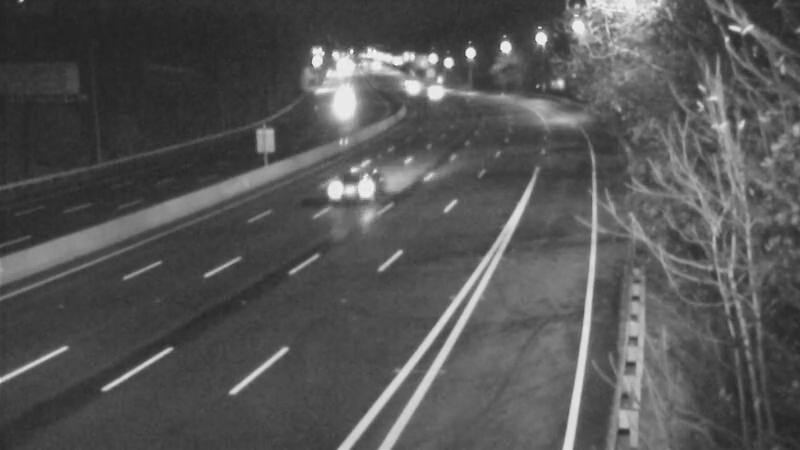vehicle: (308, 144, 388, 224), (387, 60, 437, 110), (406, 65, 456, 115), (318, 79, 368, 129)
